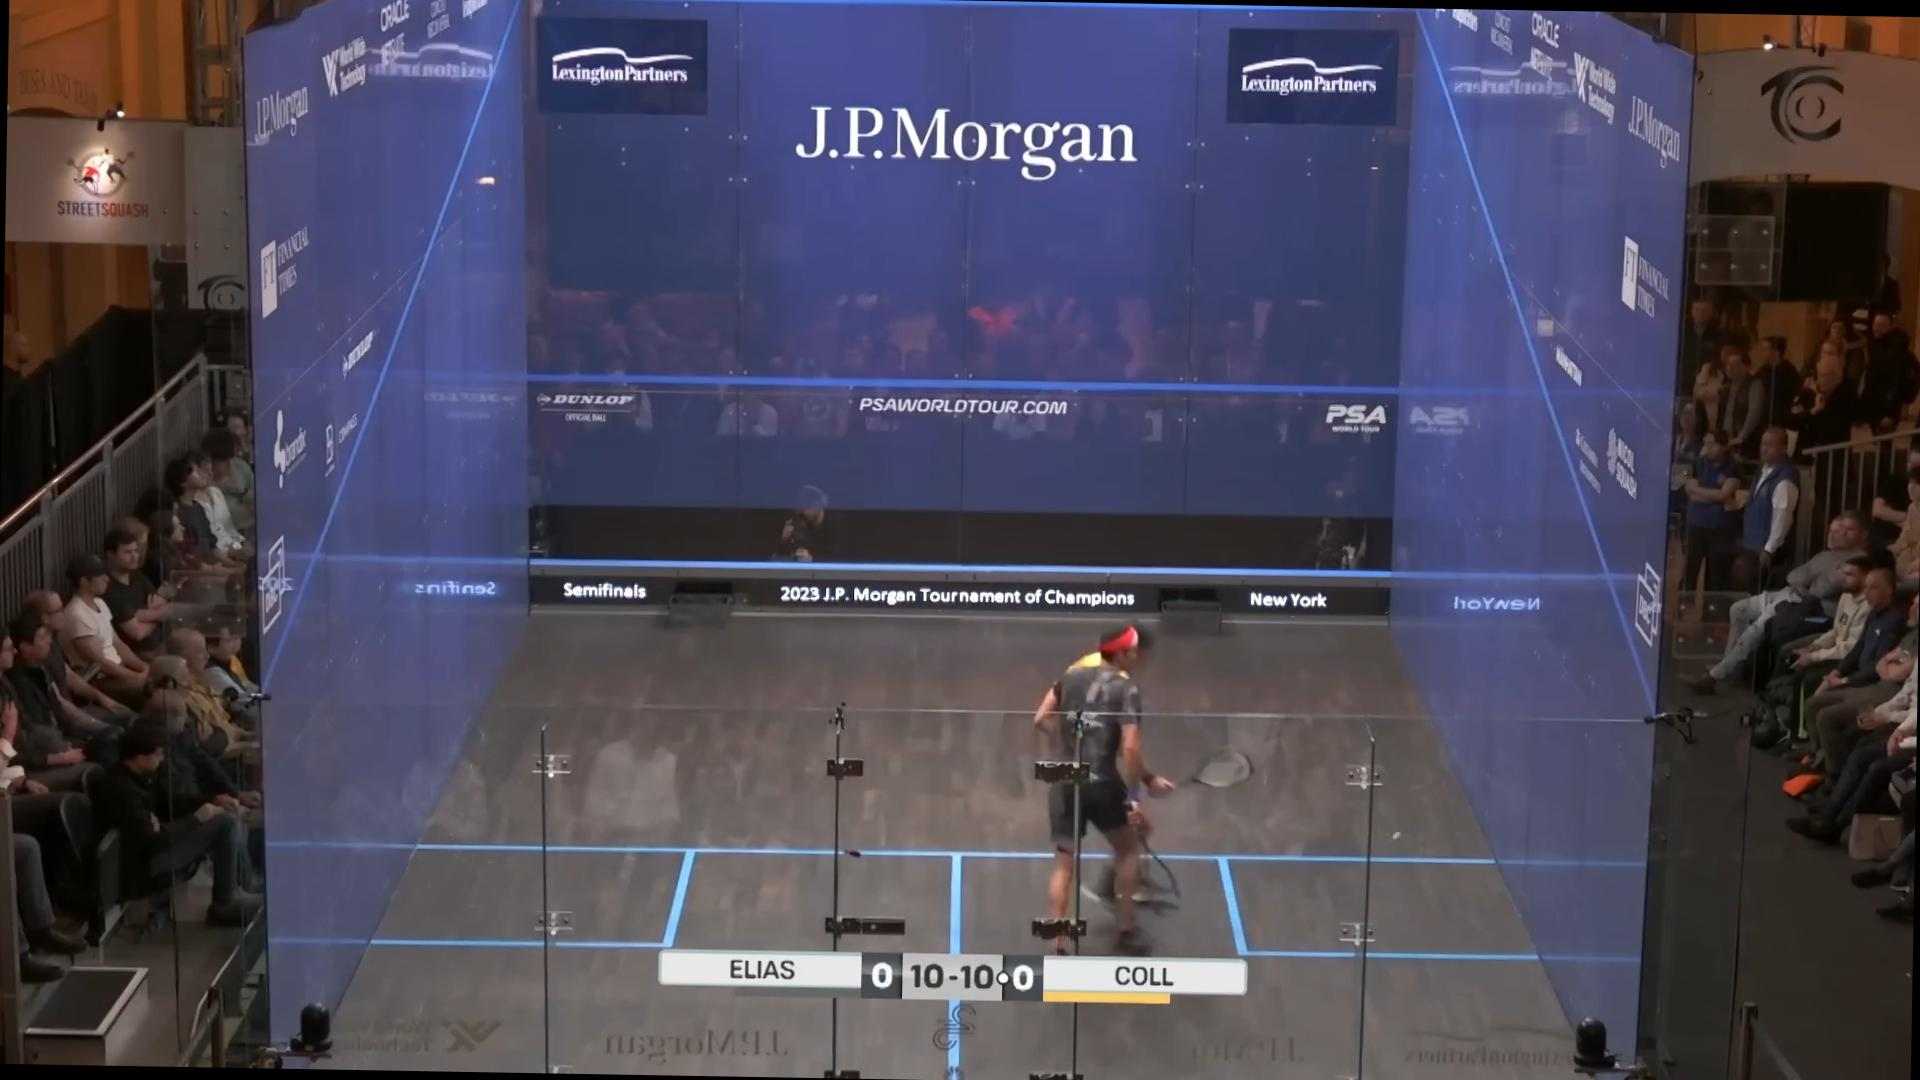Racket: (1151, 738, 1258, 802), (1118, 822, 1195, 910)
